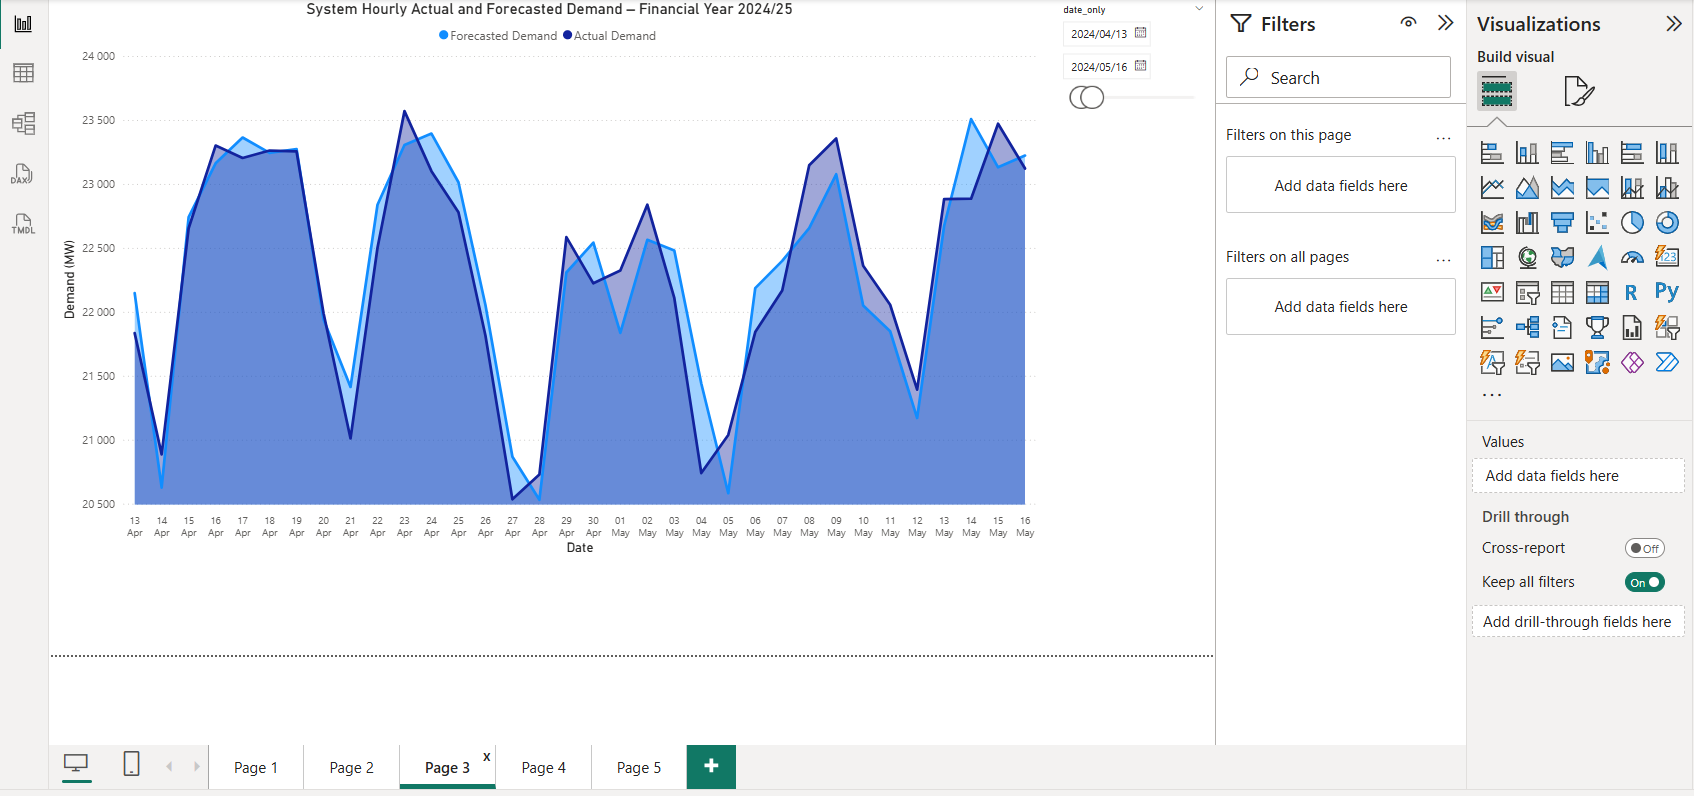

The page's visual inventory and layout, read from the dashboard file:
{"tool":"powerbi","page":{"name":"Page 3","canvas":[1280,720],"ordinal":2},"visuals":[{"type":"areaChart","title":"System Hourly Actual and Forecasted Demand – Financial Year 2024/25","fields":{"Category":["public vw_hourly_demand.hour_start_formatted"],"Y":["Avg(public vw_hourly_demand.hourly_forecast)","Avg(public vw_hourly_demand.hourly_actual)"]},"box":[9.6,0,1079.9,614.8],"z":0},{"type":"slicer","fields":{"Values":["public vw_hourly_demand.date_only"]},"box":[1100.5,0,179.8,148.2],"z":1000}]}

Visuals, with their boxes on the page's 1280x720 design canvas (x1, y1, x2, y2). These are canvas units, not pixel positions in the 1694x796 screenshot, which may show the page scaled, cropped or inside an application window:
"System Hourly Actual and Forecasted Demand – Financial Year 2024/25" areaChart: (x1=10, y1=0, x2=1090, y2=615)
slicer - public vw_hourly_demand.date_only: (x1=1100, y1=0, x2=1280, y2=148)
